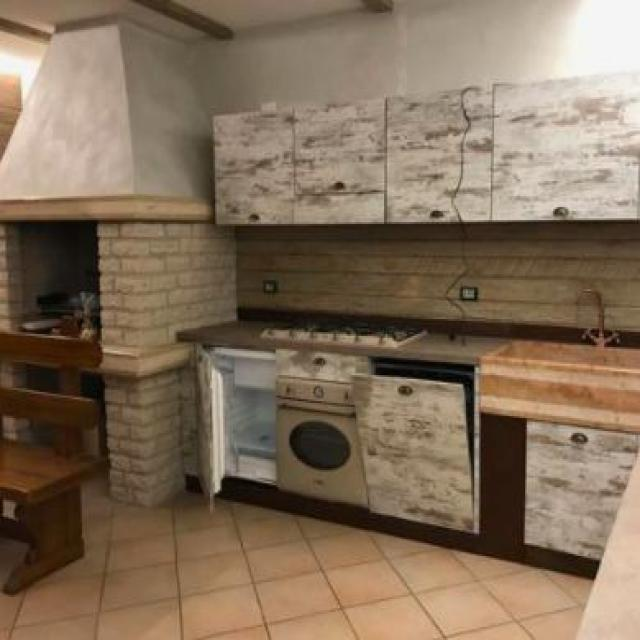dishwasher: (346, 355, 484, 539)
